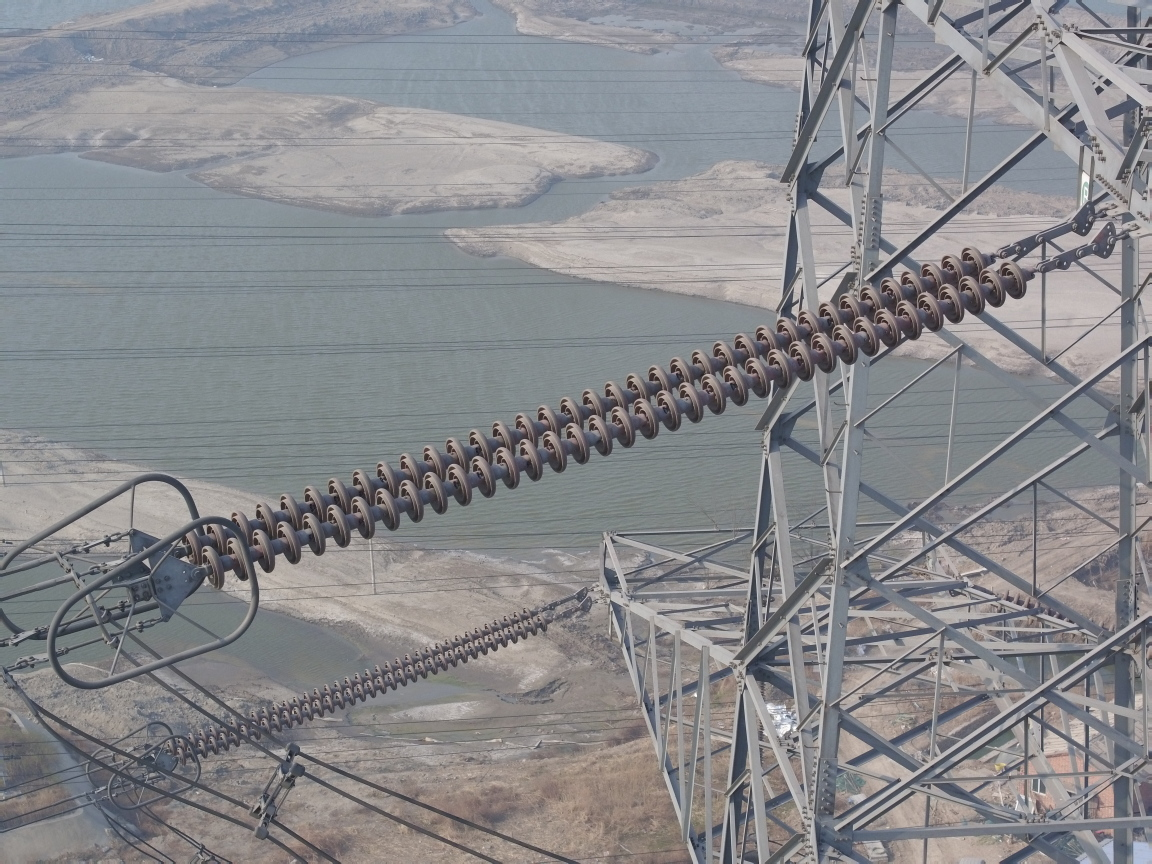insulator: (172, 233, 1080, 597)
